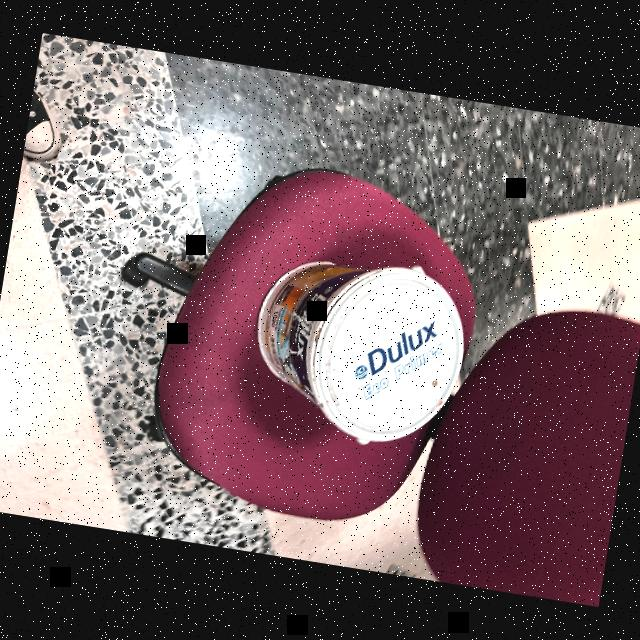paint_bucket: (228, 232, 474, 466)
